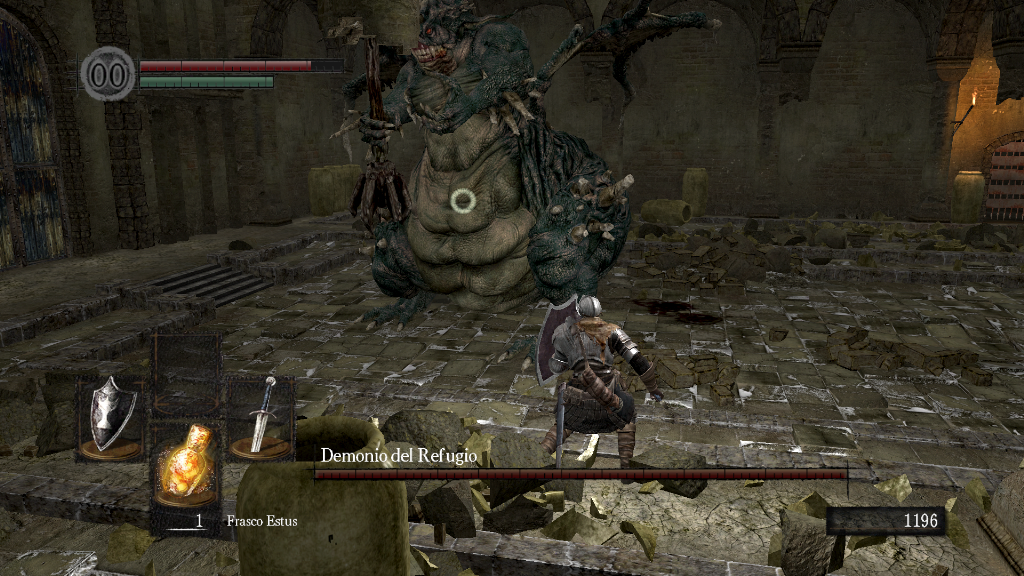asylumDemon: (303, 2, 639, 338)
bossHP: (314, 469, 847, 479)
health: (138, 58, 343, 71)
humanity: (80, 45, 136, 102)
player: (534, 292, 666, 467)
souls: (825, 506, 945, 536)
stamina: (138, 74, 274, 88)
